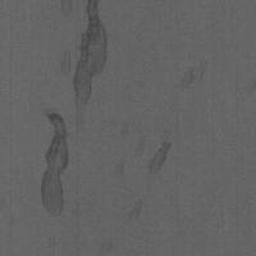Water spot: (59, 0, 110, 129), (40, 110, 70, 216), (147, 127, 174, 175), (179, 58, 210, 92), (132, 137, 152, 161), (127, 198, 143, 224), (93, 239, 114, 256), (60, 0, 76, 19), (110, 159, 125, 179), (251, 77, 256, 91)
